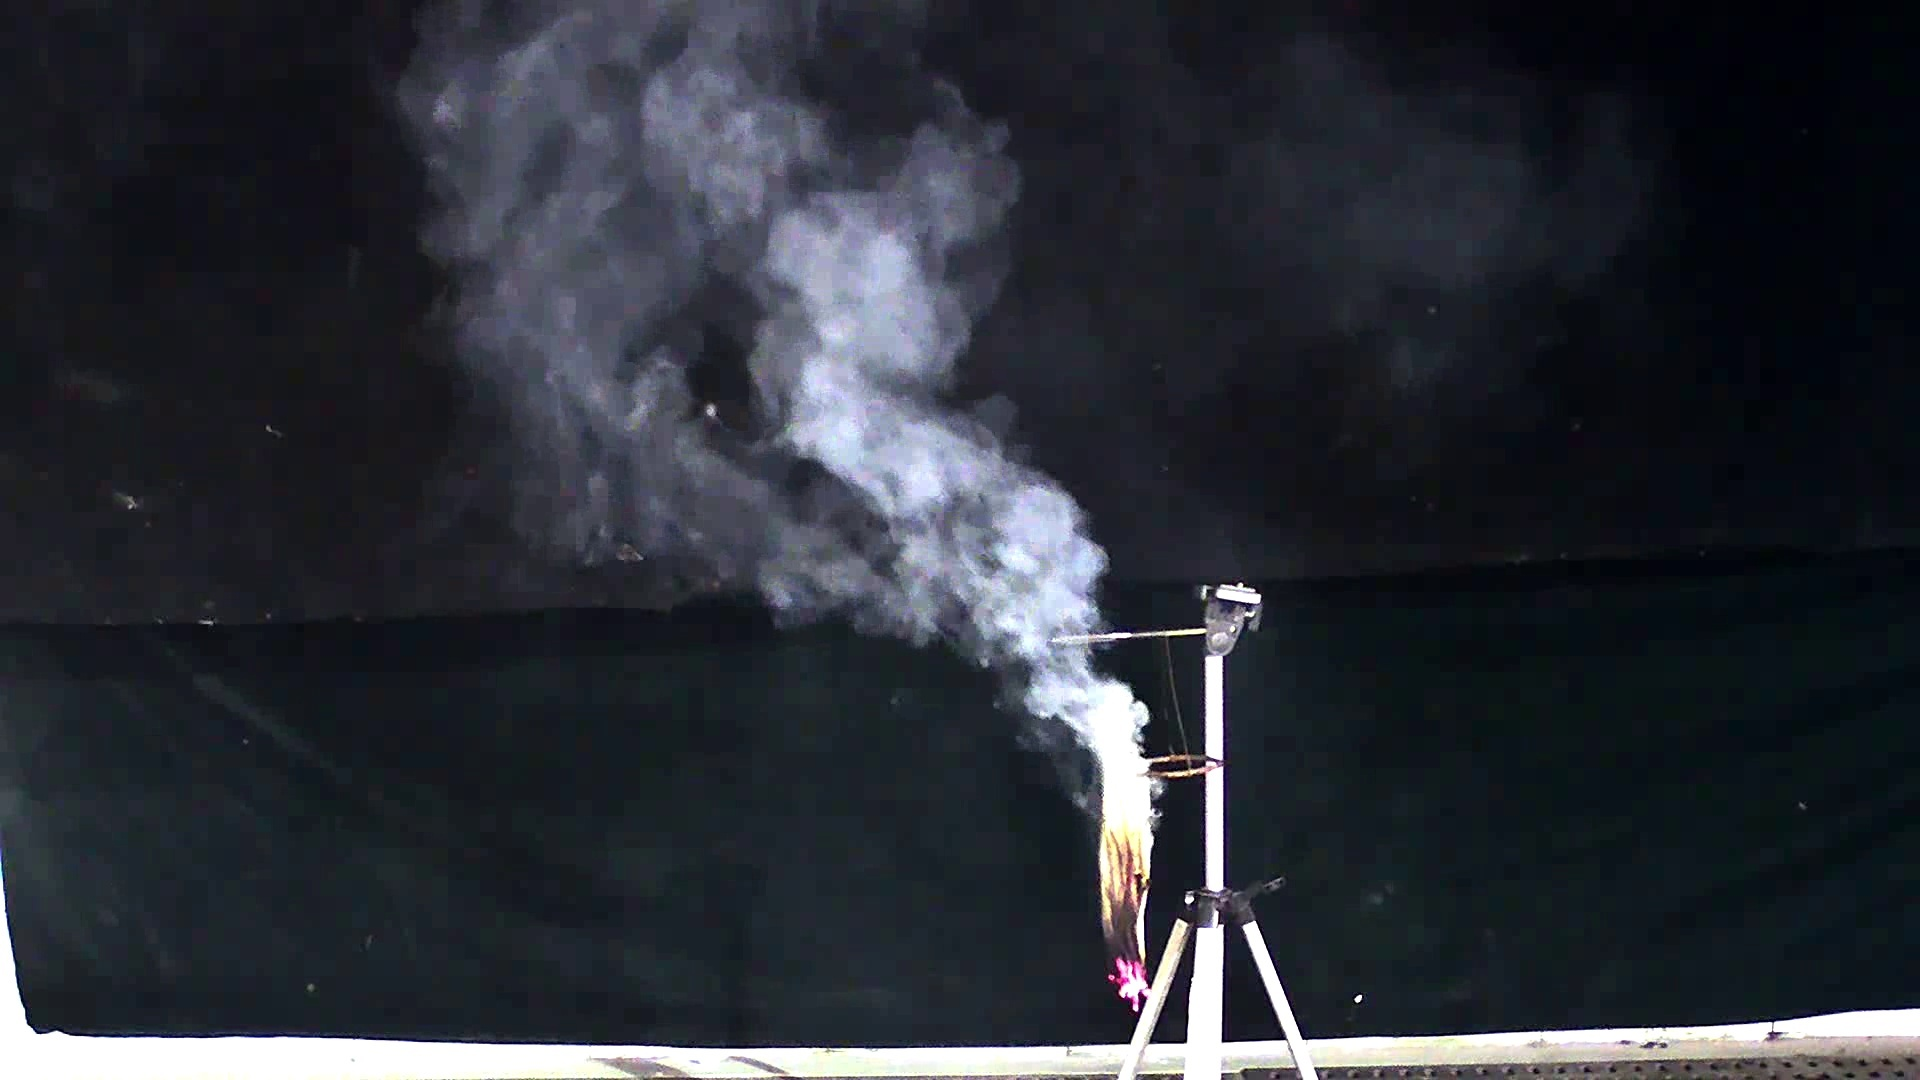smoke: (390, 34, 1171, 814)
